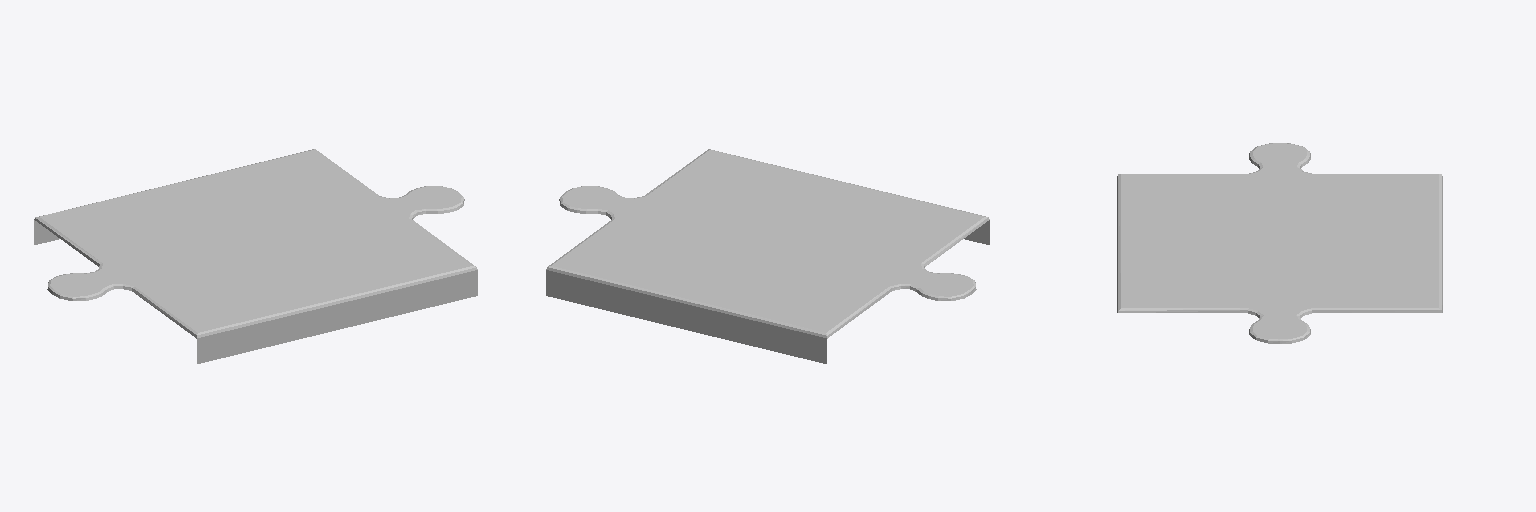
The model's file is Horizontal Knobs.obj.
3 views of the same model, side by side, from view 1: azimuth 30°, elevation 25°; view 2: azimuth 150°, elevation 25°; view 3: azimuth 270°, elevation 25° (orthographic).
Parts seen in each view (by area): view 1: PuzzleStraightHorizontalKnobs; view 2: PuzzleStraightHorizontalKnobs; view 3: PuzzleStraightHorizontalKnobs.
Part boxes in pixels (bbox=[...]): PuzzleStraightHorizontalKnobs: bbox=[34, 149, 477, 363]; PuzzleStraightHorizontalKnobs: bbox=[546, 149, 989, 363]; PuzzleStraightHorizontalKnobs: bbox=[1117, 143, 1442, 343].
Bounding box in the file's own units: 854 × 59.05 × 591.